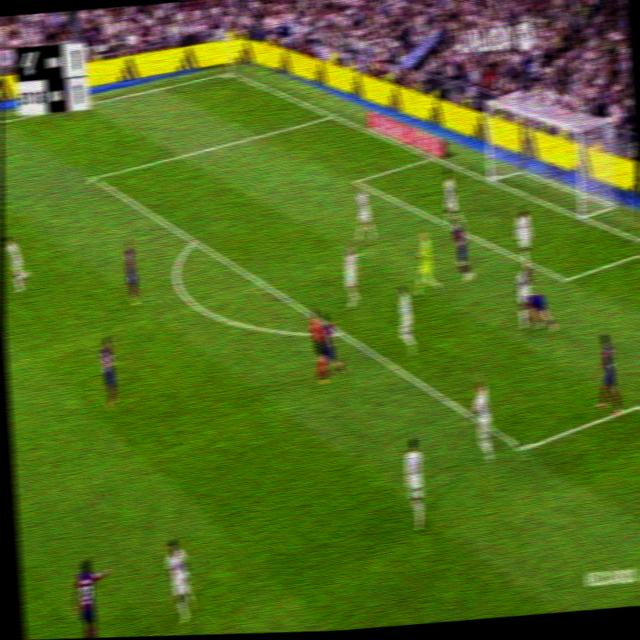bigarea_bottom_inner: (514, 431, 532, 464)
bigarea_top_inner: (87, 165, 101, 188)
bigarea_top_outter: (326, 106, 337, 122)
corner: (224, 64, 238, 79)
smallarea_top_inner: (350, 170, 362, 190)
top_arc_area_intersection: (187, 228, 201, 250)
